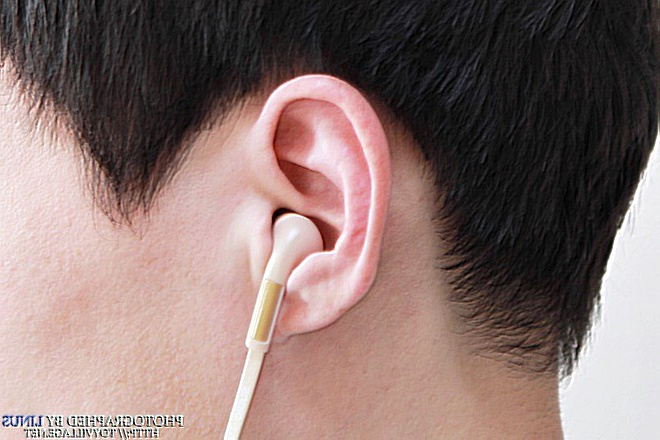earphone: (244, 74, 392, 354)
